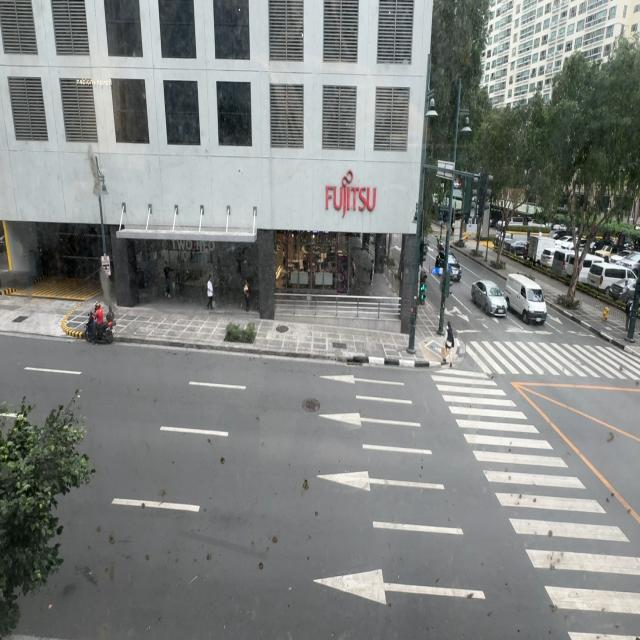crossing: (441, 318, 455, 366)
